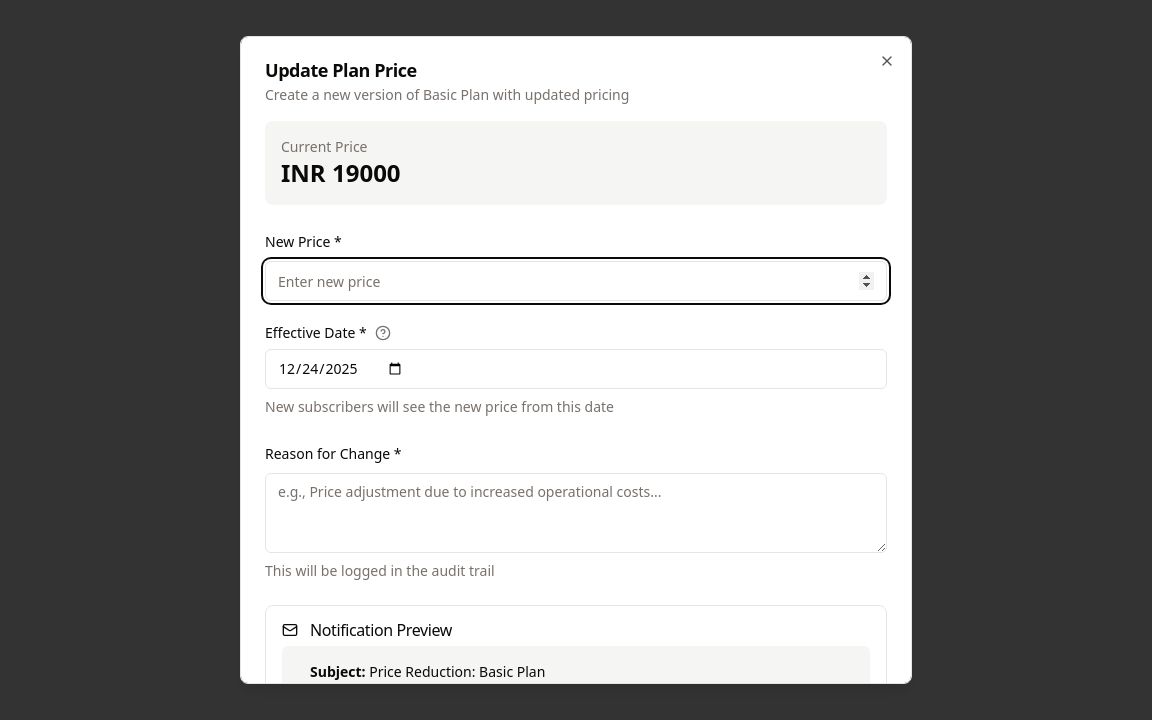
Test: PriceUpdateDialog › should calculate price increase correctly
The image size is (1152, 720).
Type "25000" into the number field labelled "New Price *" at x=576, y=281, box [265,261,887,301]
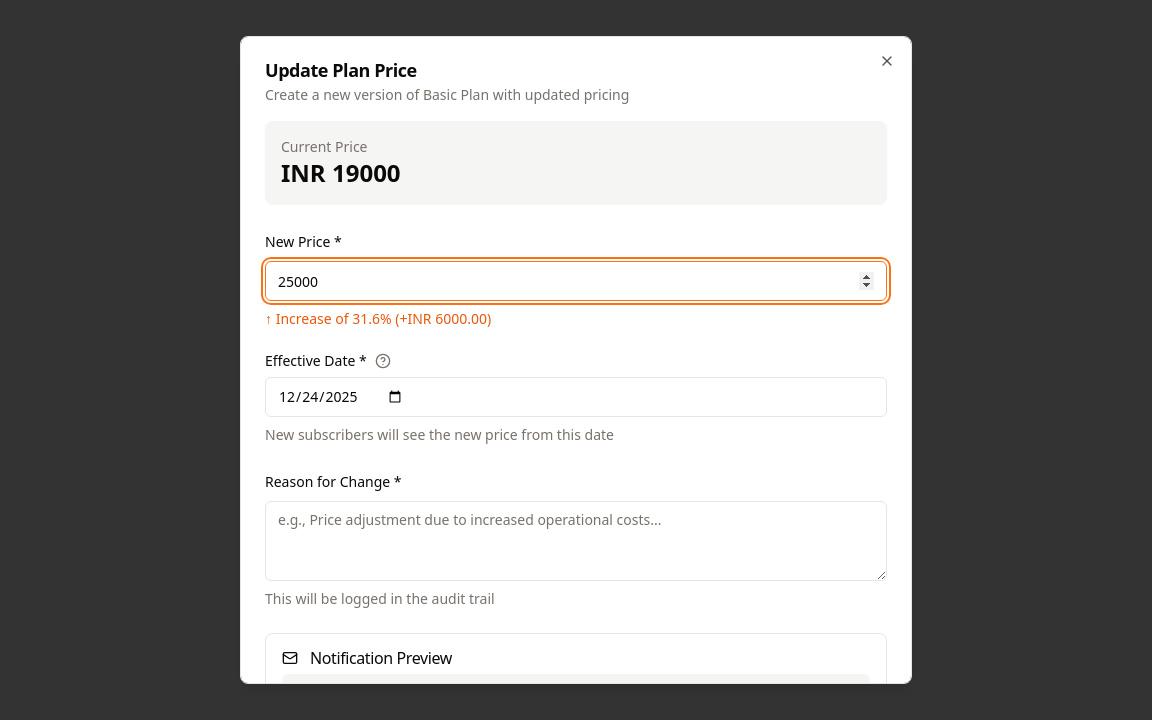
Result: the text "↑ Increase of 31.6% (+INR 6000.00)" is shown at [265,309,491,328]
